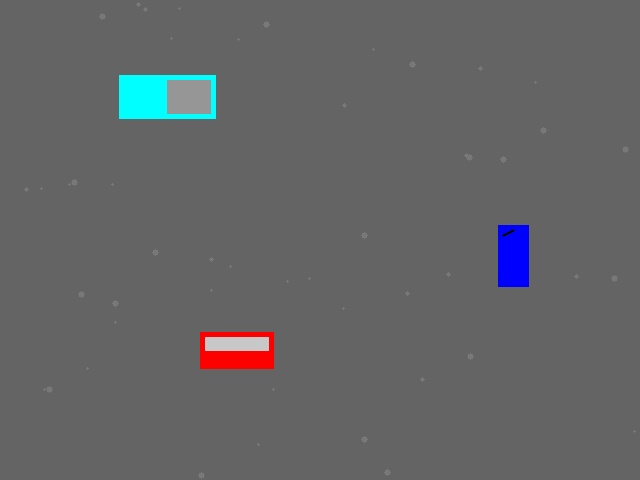car: (200, 332, 273, 368)
motorcycle: (498, 225, 528, 286)
truck: (119, 75, 215, 118)
